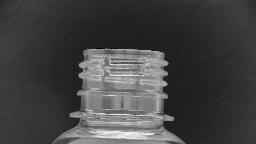No Cap: (60, 44, 182, 128)
